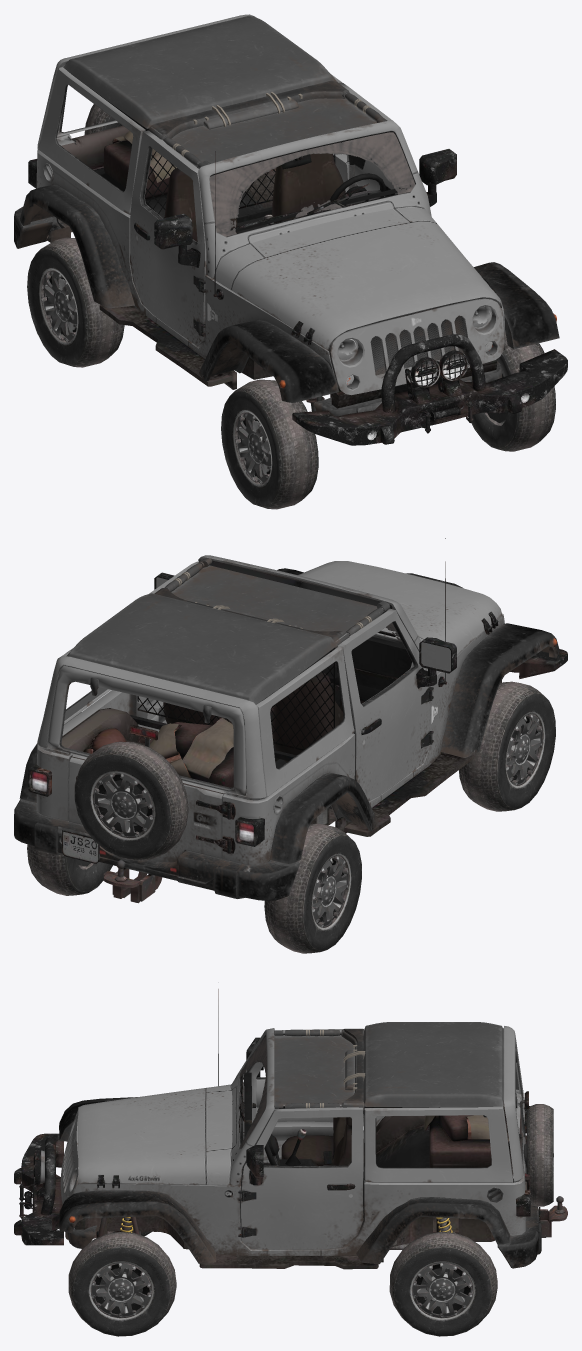
Rendered from jeep2.glb.
3 views of the same model, one above another, from view 1: azimuth 30°, elevation 25°; view 2: azimuth 150°, elevation 25°; view 3: azimuth 270°, elevation 25° (orthographic). The views are drawn at different scales.
Visible parts, largest first — view 1: Jeep_body_Jeep_body_0_0, Jeep_tires_Jeep_tires_0_3, Jeep_details_Jeep_details_0_1, Jeep_interior_Jeep_interior_0_2; view 2: Jeep_body_Jeep_body_0_0, Jeep_tires_Jeep_tires_0_3, Jeep_interior_Jeep_interior_0_2, Jeep_details_Jeep_details_0_1; view 3: Jeep_body_Jeep_body_0_0, Jeep_tires_Jeep_tires_0_3, Jeep_interior_Jeep_interior_0_2, Jeep_details_Jeep_details_0_1.
Part boxes in pixels (bbox=[...]): Jeep_body_Jeep_body_0_0: bbox=[14, 14, 559, 416]; Jeep_tires_Jeep_tires_0_3: bbox=[27, 104, 555, 509]; Jeep_details_Jeep_details_0_1: bbox=[28, 149, 567, 445]; Jeep_interior_Jeep_interior_0_2: bbox=[52, 72, 497, 408]; Jeep_body_Jeep_body_0_0: bbox=[14, 555, 559, 900]; Jeep_tires_Jeep_tires_0_3: bbox=[27, 681, 555, 953]; Jeep_interior_Jeep_interior_0_2: bbox=[61, 560, 473, 850]; Jeep_details_Jeep_details_0_1: bbox=[28, 538, 567, 903]; Jeep_body_Jeep_body_0_0: bbox=[59, 1022, 541, 1268]; Jeep_tires_Jeep_tires_0_3: bbox=[68, 1104, 553, 1336]; Jeep_interior_Jeep_interior_0_2: bbox=[74, 1031, 521, 1269]; Jeep_details_Jeep_details_0_1: bbox=[14, 989, 567, 1272].
Size of the model in its own units: 1.89 by 1.87 by 3.67.
4 materials, 4 textured.
